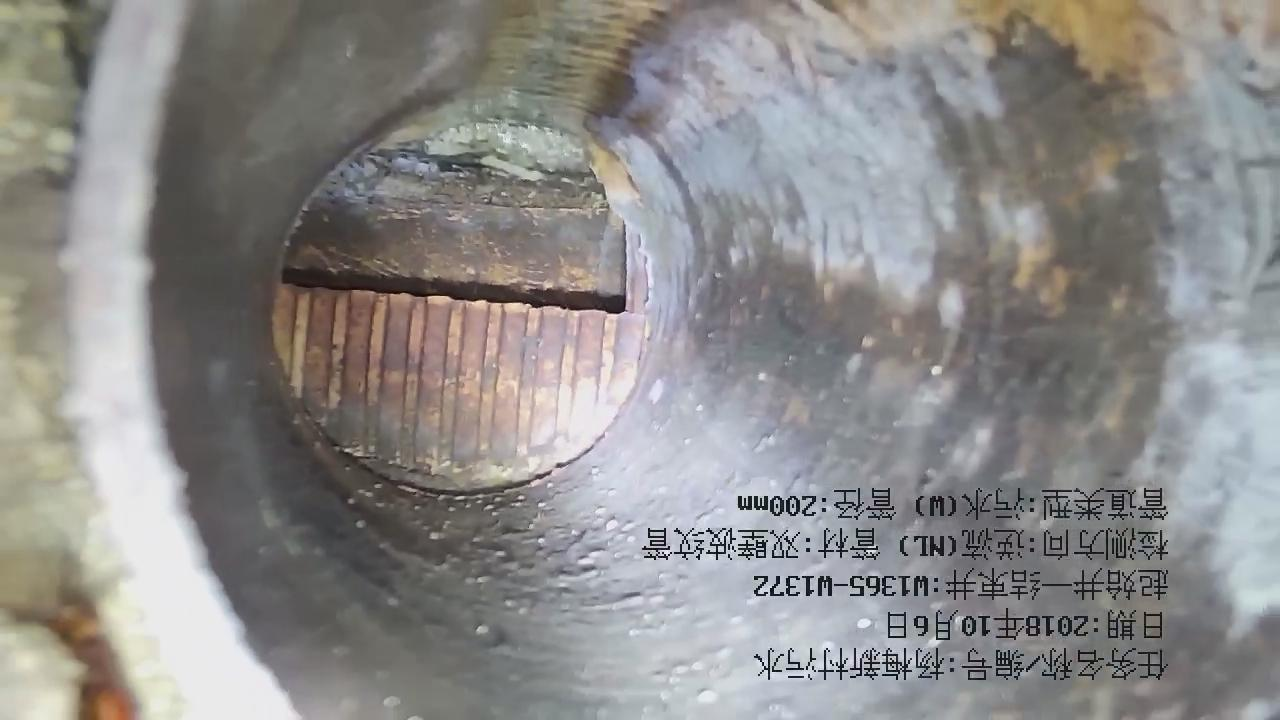YWCR: (275, 284, 643, 491)
